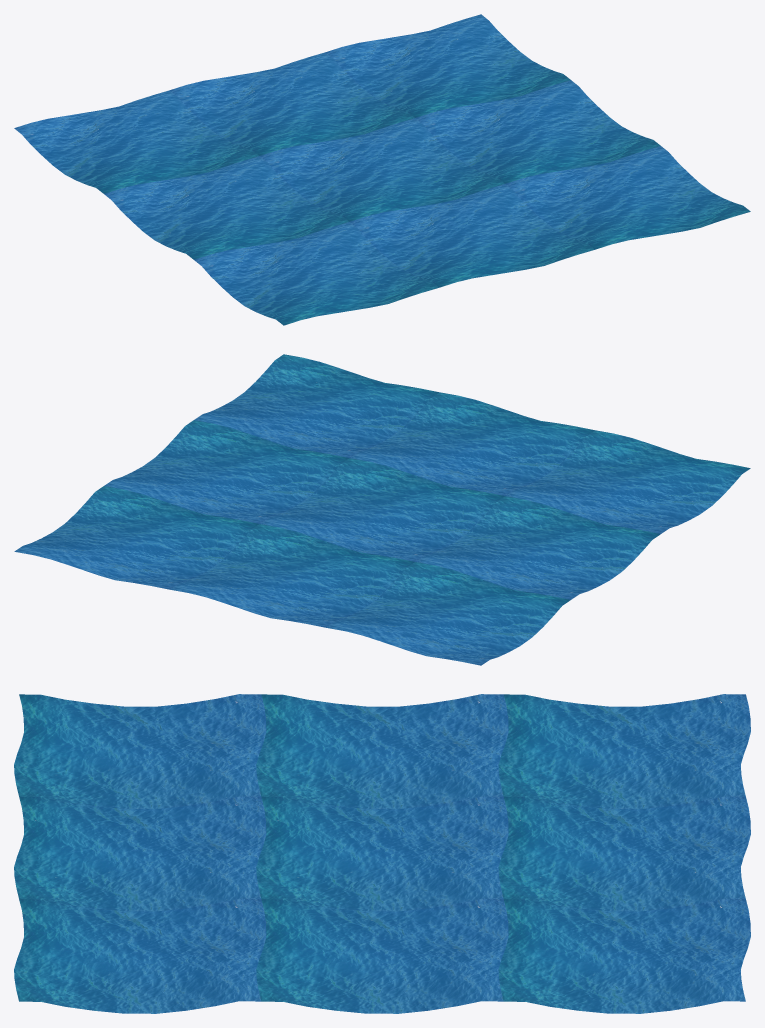
Rendered from ocean_000069.obj.
3 renders of one model, top to bottom at view 1: azimuth 30°, elevation 25°; view 2: azimuth 150°, elevation 25°; view 3: azimuth 270°, elevation 25°, orthographic. The views are drawn at different scales.
Parts seen in each view (by area): view 1: Ocean_Plan.001; view 2: Ocean_Plan.001; view 3: Ocean_Plan.001.
Boxes of the visible parts, x1=… form: Ocean_Plan.001: x1=14, y1=14, x2=750, y2=325; Ocean_Plan.001: x1=14, y1=354, x2=750, y2=665; Ocean_Plan.001: x1=14, y1=694, x2=750, y2=1013.
Bounding box in the file's own units: 109216 × 2291 × 110492.
1 material, 1 textured.
